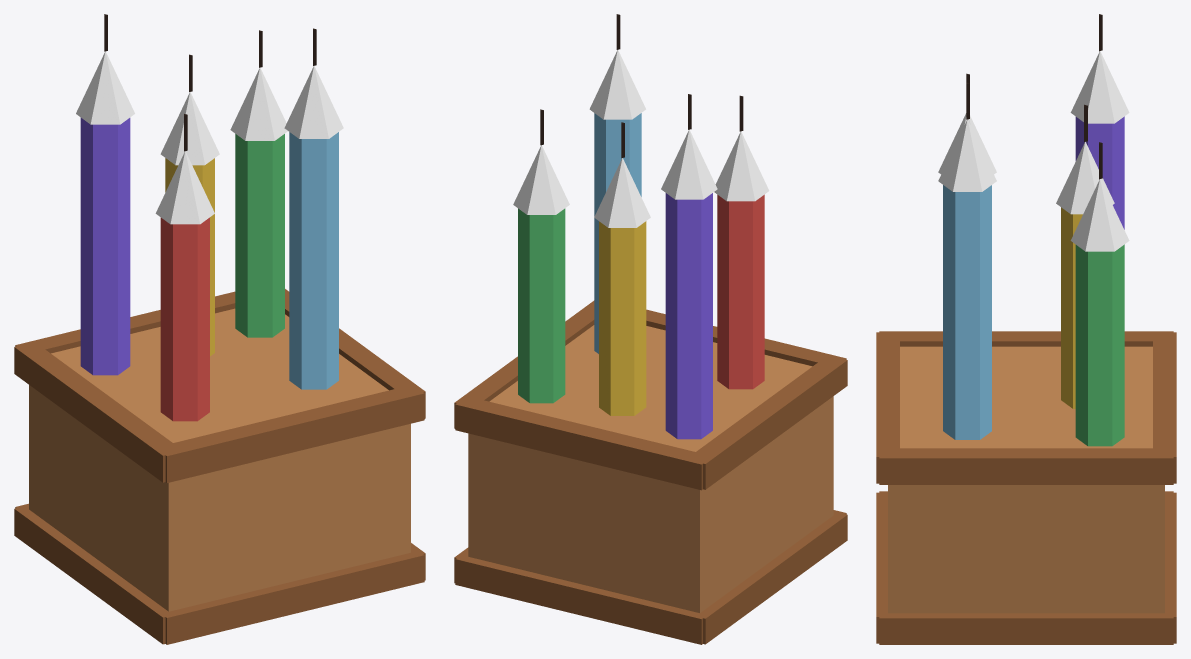
The model's file is prop_firework_crate.glb.
3 renders of one model, left to right at view 1: azimuth 30°, elevation 25°; view 2: azimuth 150°, elevation 25°; view 3: azimuth 270°, elevation 25°, orthographic. The views are drawn at different scales.
Visible parts, largest first — view 1: prop_firework_crate; view 2: prop_firework_crate; view 3: prop_firework_crate.
Boxes of the visible parts, x1,y1,x2,y2 form: prop_firework_crate: (14, 14, 425, 644); prop_firework_crate: (454, 14, 847, 644); prop_firework_crate: (876, 14, 1176, 644).
Size of the model in its own units: 0.612 by 1.19 by 0.612.
